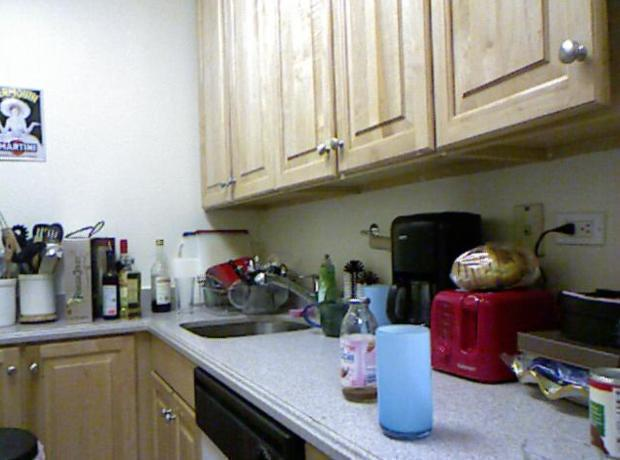Lavaplatos: (176, 253, 334, 351)
